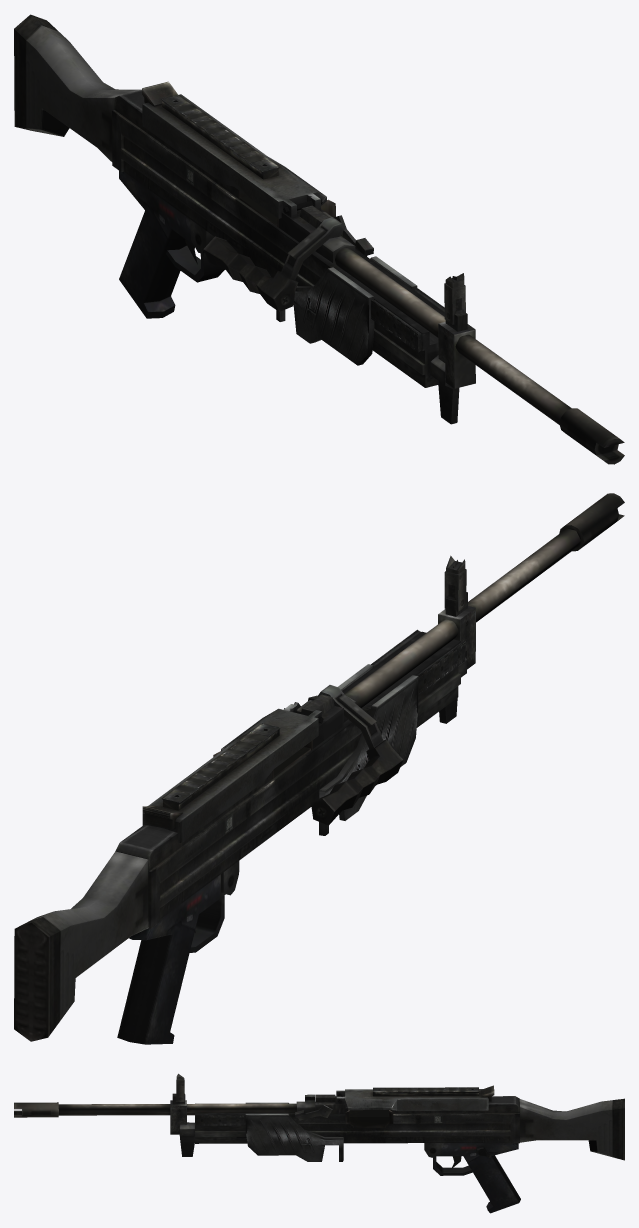
3 views of the same model, one above another, from view 1: azimuth 30°, elevation 25°; view 2: azimuth 150°, elevation 25°; view 3: azimuth 270°, elevation 25° (orthographic). The views are drawn at different scales.
Visible parts, largest first — view 1: DrawCall_0235; view 2: DrawCall_0235; view 3: DrawCall_0235.
Boxes of the visible parts, x1=… form: DrawCall_0235: x1=14, y1=14, x2=624, y2=464; DrawCall_0235: x1=14, y1=493, x2=624, y2=1044; DrawCall_0235: x1=14, y1=1073, x2=624, y2=1213.
Bounding box in the file's own units: 4.88 × 11.61 × 47.24.
